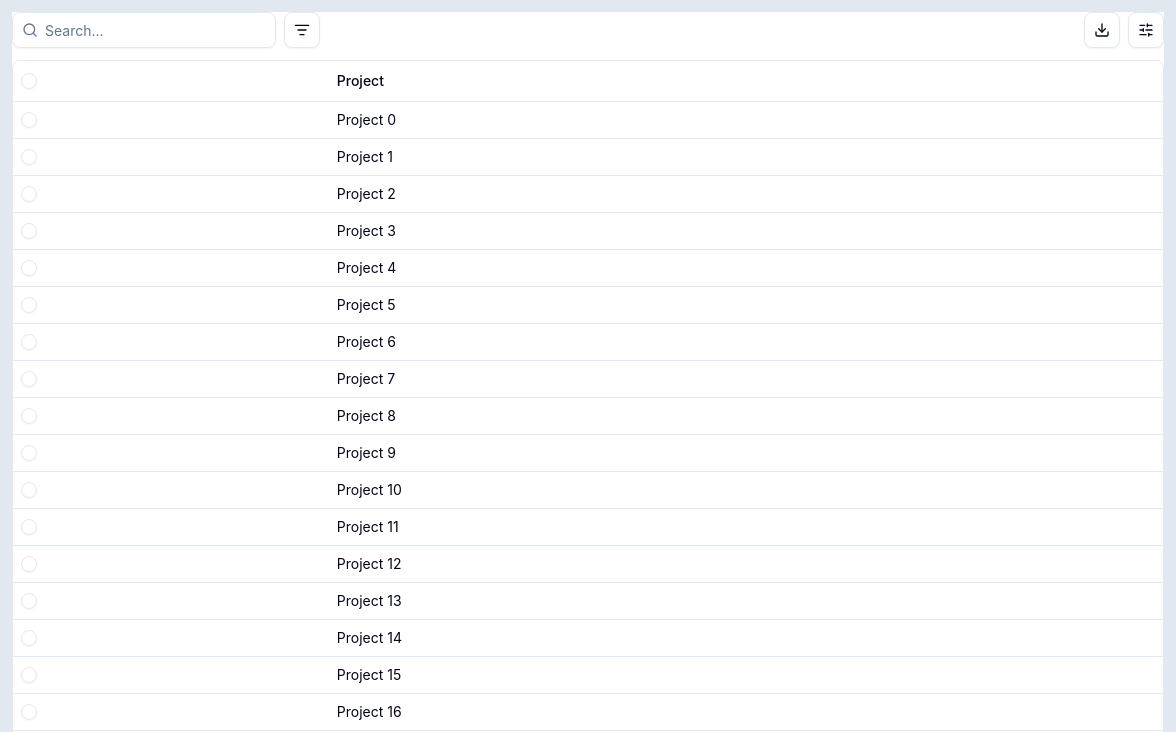
it: selects all matching projects without mounting all their rows
Click the checkbox named "Select all rows": (29, 81) [21,73,37,89]
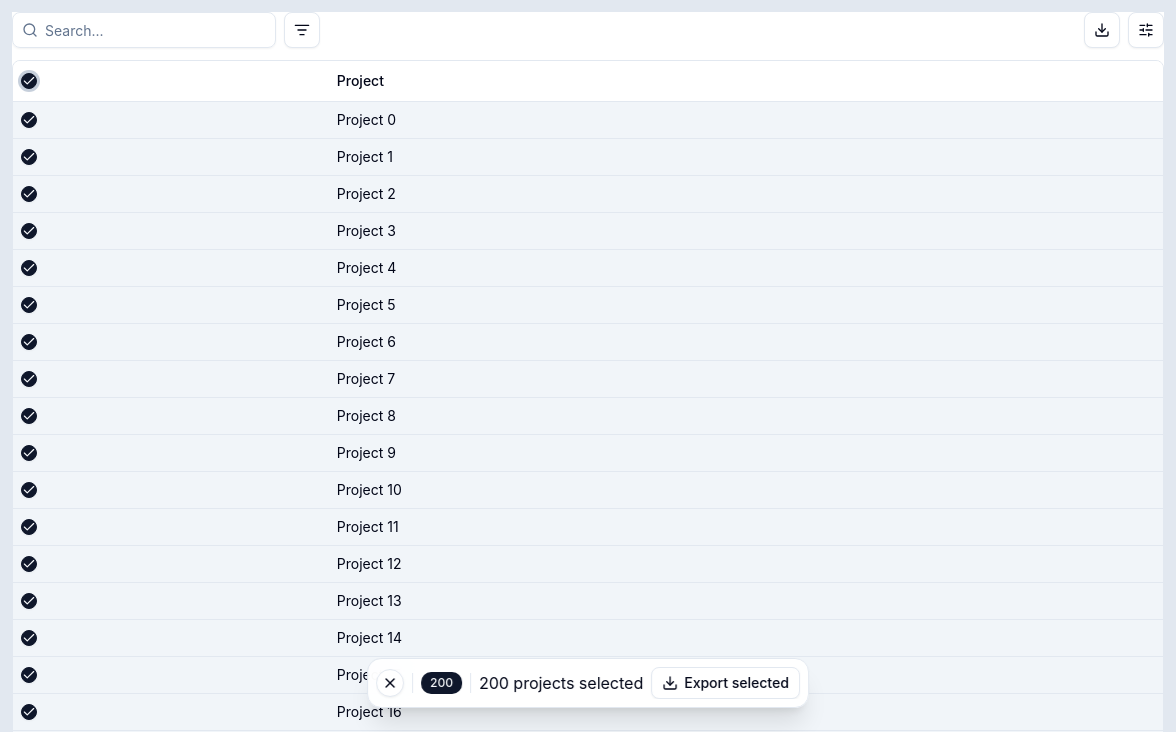
Now the text "200 projects selected" is shown, box [479,671,643,695]
